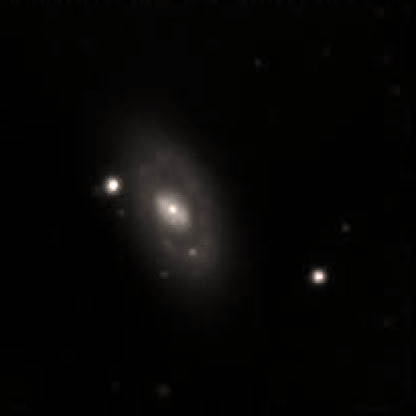NGC 4102: (80, 120, 232, 301)
